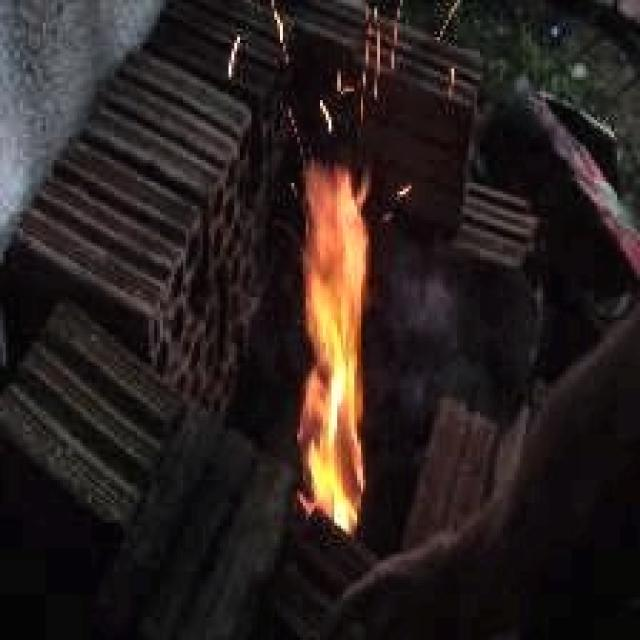fire: (232, 8, 434, 546)
